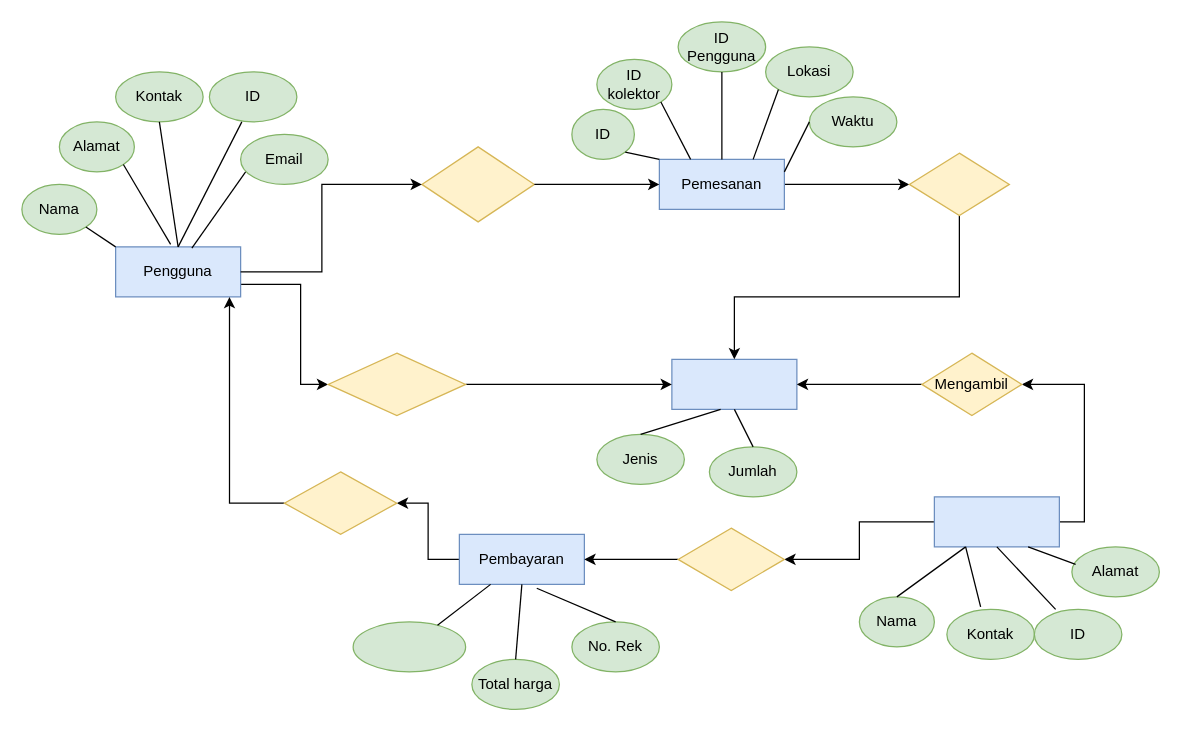
This 1181x731 diagram has some shape labels left out. The shapes that lost their labels are listed below. From the top down, each one's centre as x and y in pixels, then its label:
At (x=477, y=184): "Melakukan".
At (x=958, y=184): "memuat".
At (x=396, y=384): "Menyerahkan".
At (x=734, y=383): "Barang".
At (x=340, y=502): "terima".
At (x=996, y=521): "Kolektor".
At (x=730, y=559): "bayar".
At (x=409, y=646): "ID pemesanan".
